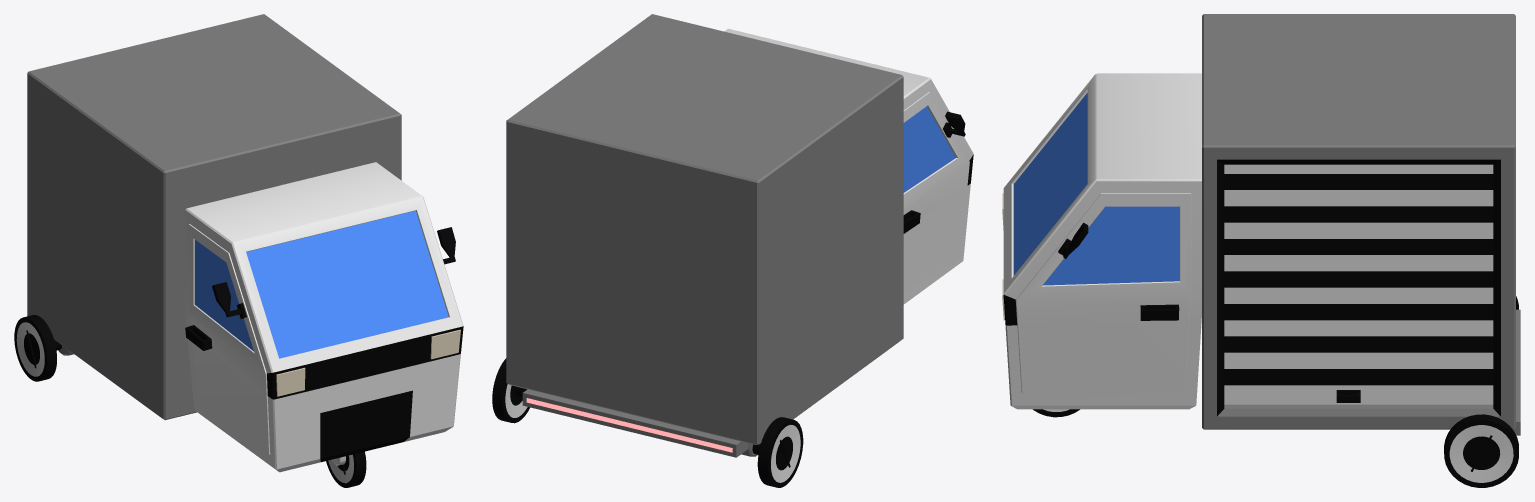
Rendered from 3Wheeler 1.fbx.
3 views of the same model, side by side, from view 1: azimuth 30°, elevation 25°; view 2: azimuth 150°, elevation 25°; view 3: azimuth 270°, elevation 25° (orthographic). The views are drawn at different scales.
Parts seen in each view (by area): view 1: body, frontWheel, rearWheel_01; view 2: body, frontWheel, rearWheel_02; view 3: body, rearWheel_02.
Boxes of the visible parts, x1,y1,x2,y2 form: body: (27, 14, 463, 472); frontWheel: (14, 315, 56, 381); rearWheel_01: (326, 451, 366, 487); body: (506, 14, 973, 457); frontWheel: (757, 417, 803, 487); rearWheel_02: (492, 358, 529, 423); body: (1002, 14, 1520, 435); rearWheel_02: (1444, 414, 1518, 487).
Bounding box in the file's own units: 65.62 × 71.03 × 99.37.
